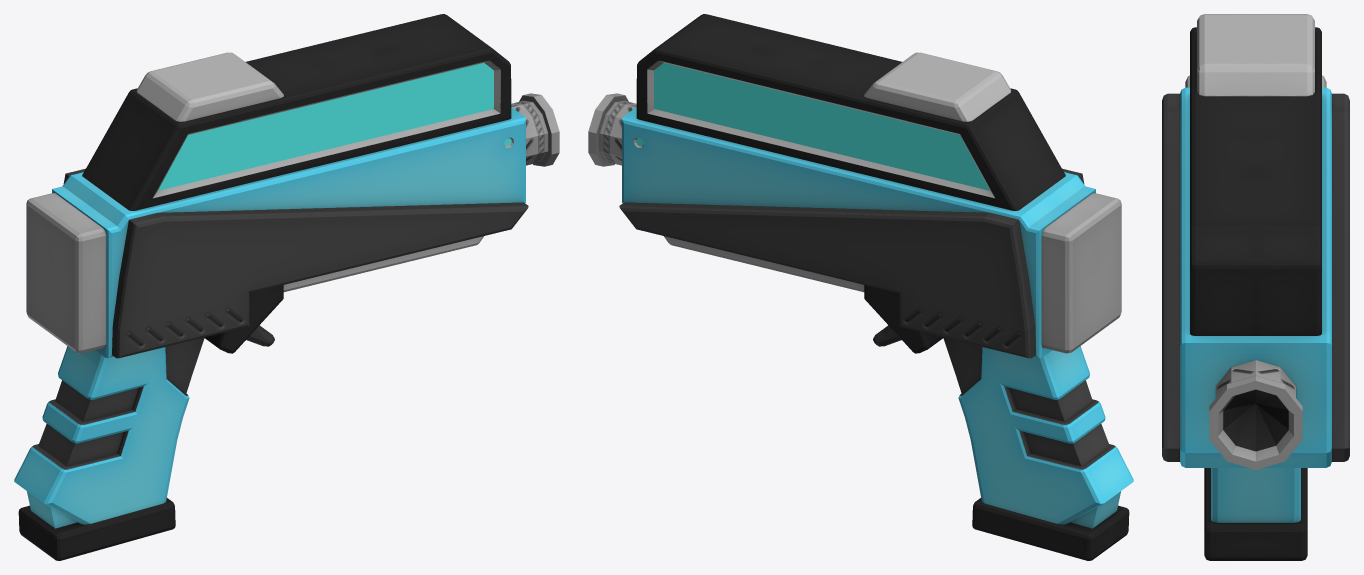
File: ArcadeRoom_Gun.fbx
The picture shows the model from 3 angles, left to right: view 1: azimuth 30°, elevation 25°; view 2: azimuth 150°, elevation 25°; view 3: azimuth 270°, elevation 25°; orthographic projection. The views are drawn at different scales.
Parts seen in each view (by area): view 1: ArcadeRoom_Gun; view 2: ArcadeRoom_Gun; view 3: ArcadeRoom_Gun.
Part boxes in pixels (<box>): ArcadeRoom_Gun: <box>14,14,559,560</box>; ArcadeRoom_Gun: <box>588,14,1133,560</box>; ArcadeRoom_Gun: <box>1162,14,1349,560</box>.
Bounding box in the file's own units: 30.5 × 24.48 × 7.4.
